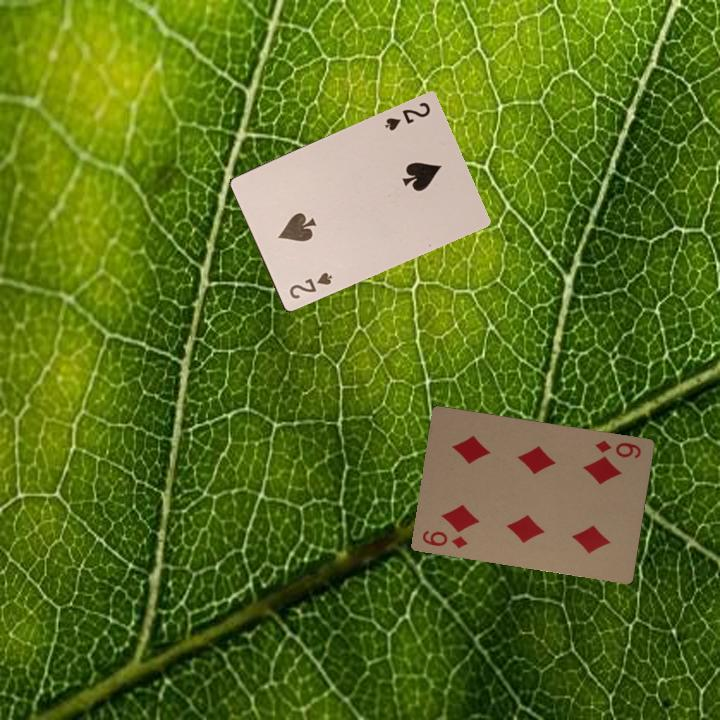2s: (381, 98, 433, 133), (285, 268, 335, 302)
6d: (591, 436, 644, 461), (418, 526, 471, 551)
